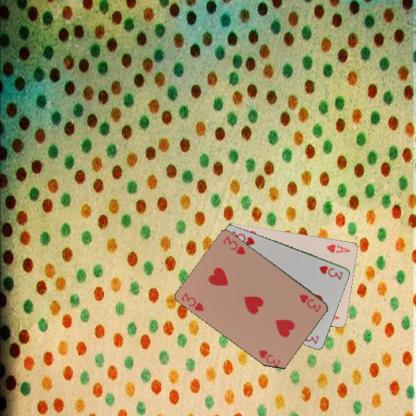3h: (179, 290, 205, 313), (297, 292, 322, 314), (316, 263, 344, 281)
Ah: (324, 241, 351, 255)
